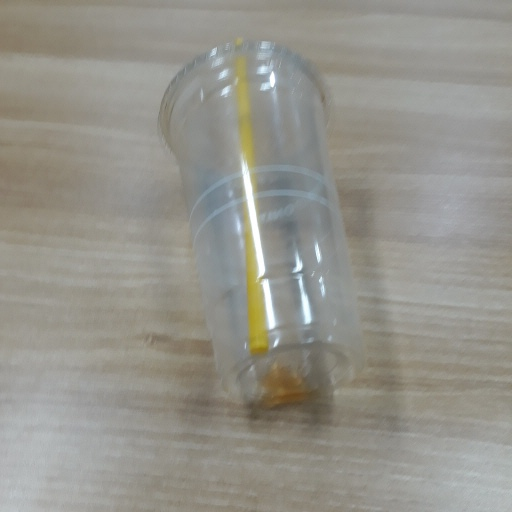Plastic_2: (154, 34, 360, 411)
